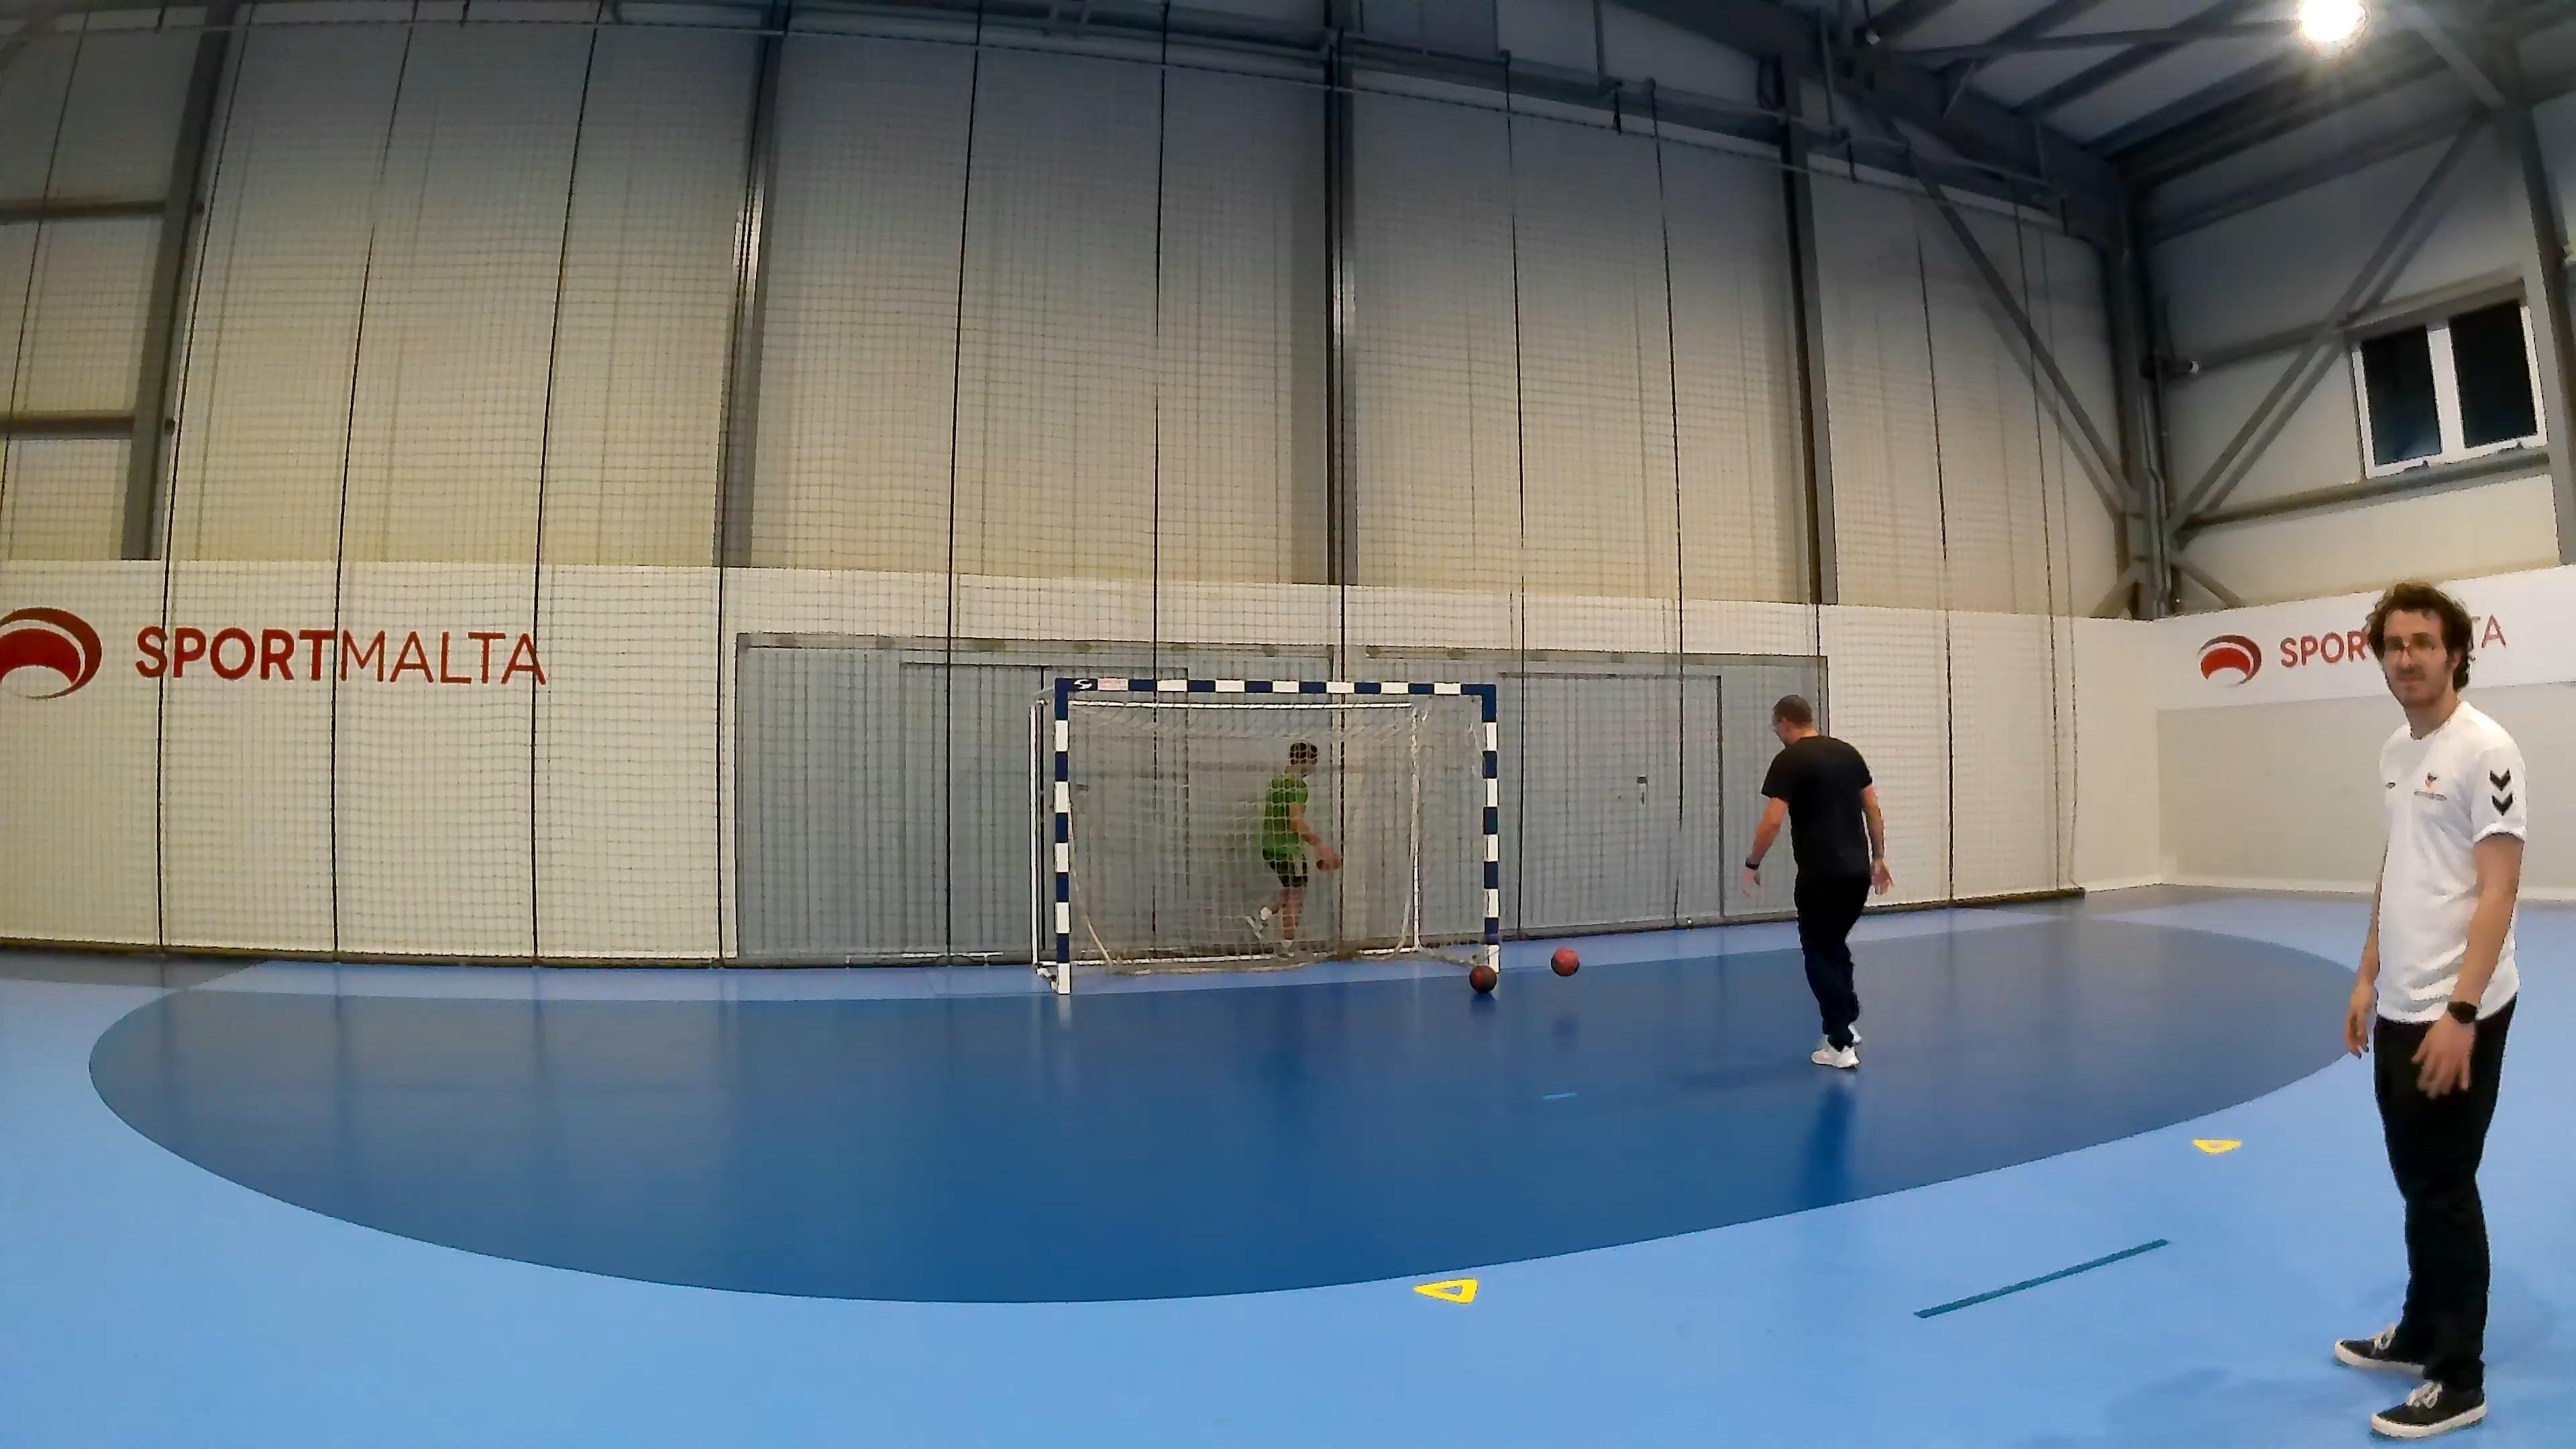handball: (1550, 947, 1578, 977), (1468, 962, 1497, 993)
